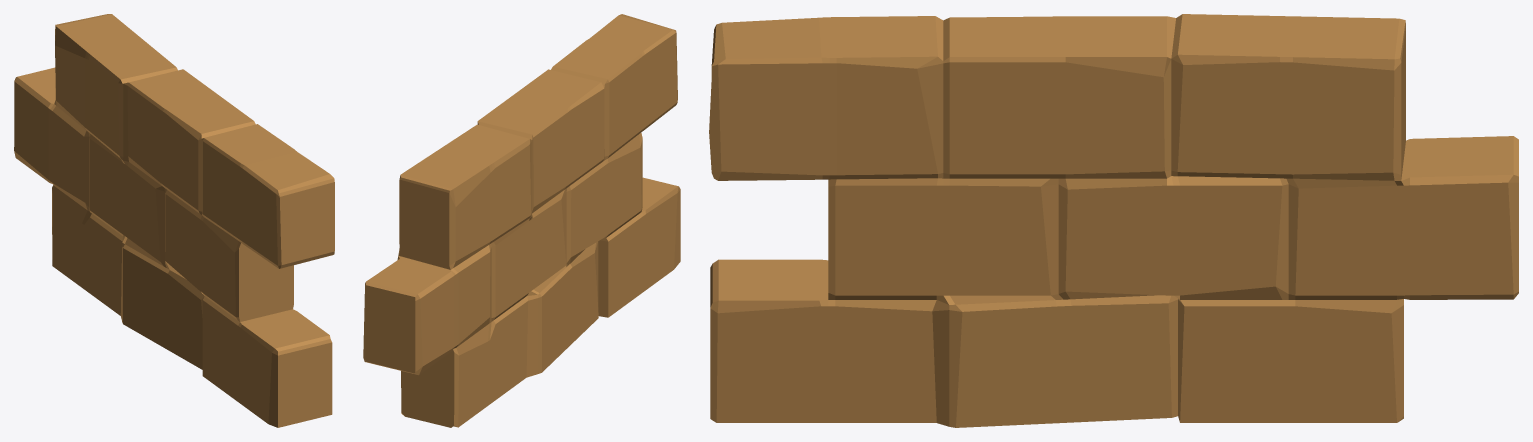
The model's file is HalfWall02.fbx.
3 views of the same model, side by side, from view 1: azimuth 30°, elevation 25°; view 2: azimuth 150°, elevation 25°; view 3: azimuth 270°, elevation 25° (orthographic). The views are drawn at different scales.
Visible parts, largest first — view 1: HalfWall02; view 2: HalfWall02; view 3: HalfWall02.
Part boxes in pixels (x1=…): HalfWall02: x1=14, y1=14, x2=334, y2=427; HalfWall02: x1=363, y1=14, x2=680, y2=427; HalfWall02: x1=709, y1=14, x2=1518, y2=427.
Bounding box in the file's own units: 107 × 347 × 698.
